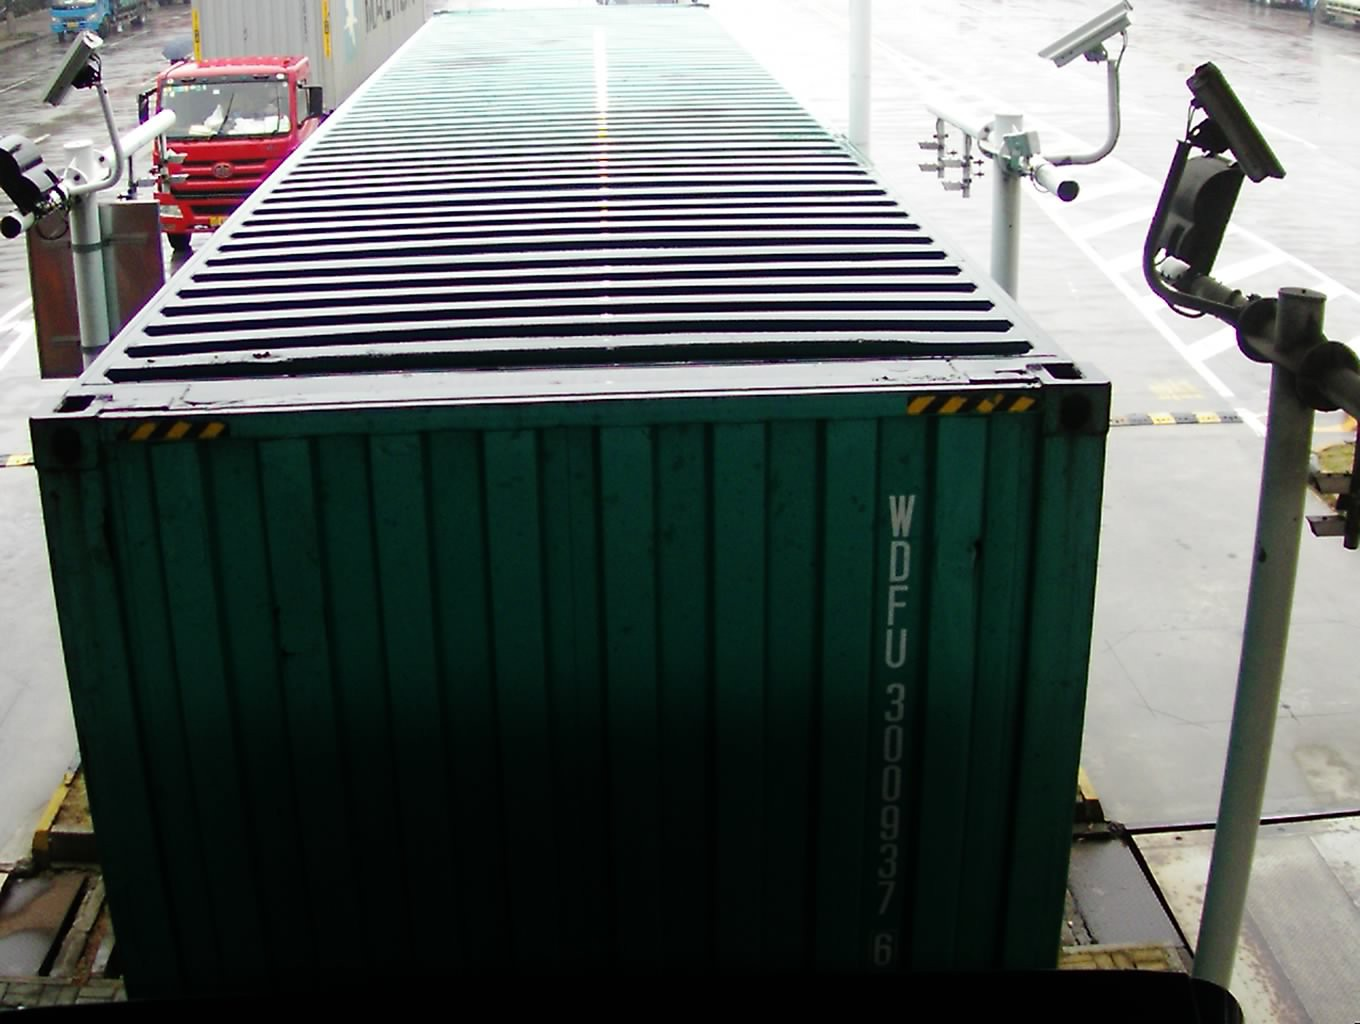words: (869, 484, 922, 979)
